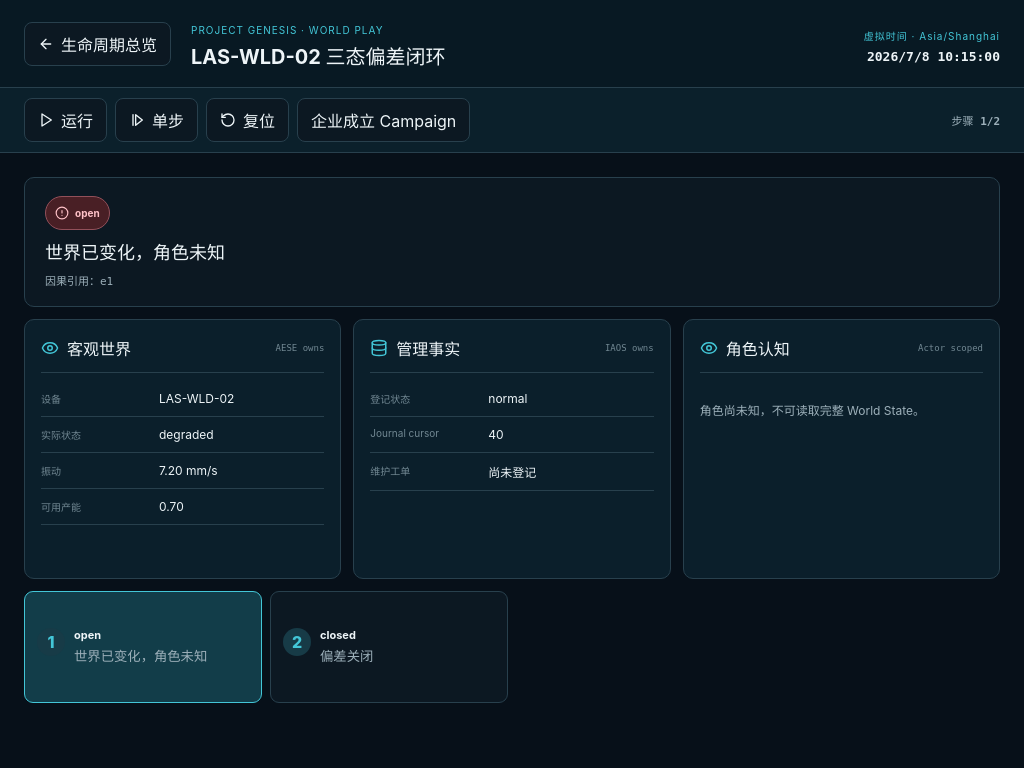
Scenario: WorldPlay › shows three states and advances accessibly
Expected: the heading "世界已变化，角色未知" is shown, x1=45 y1=242 x2=225 y2=263
Expected: the text "客观世界" is shown, x1=67 y1=339 x2=131 y2=359
Click the button "单步": (156, 120) x1=115 y1=98 x2=198 y2=142
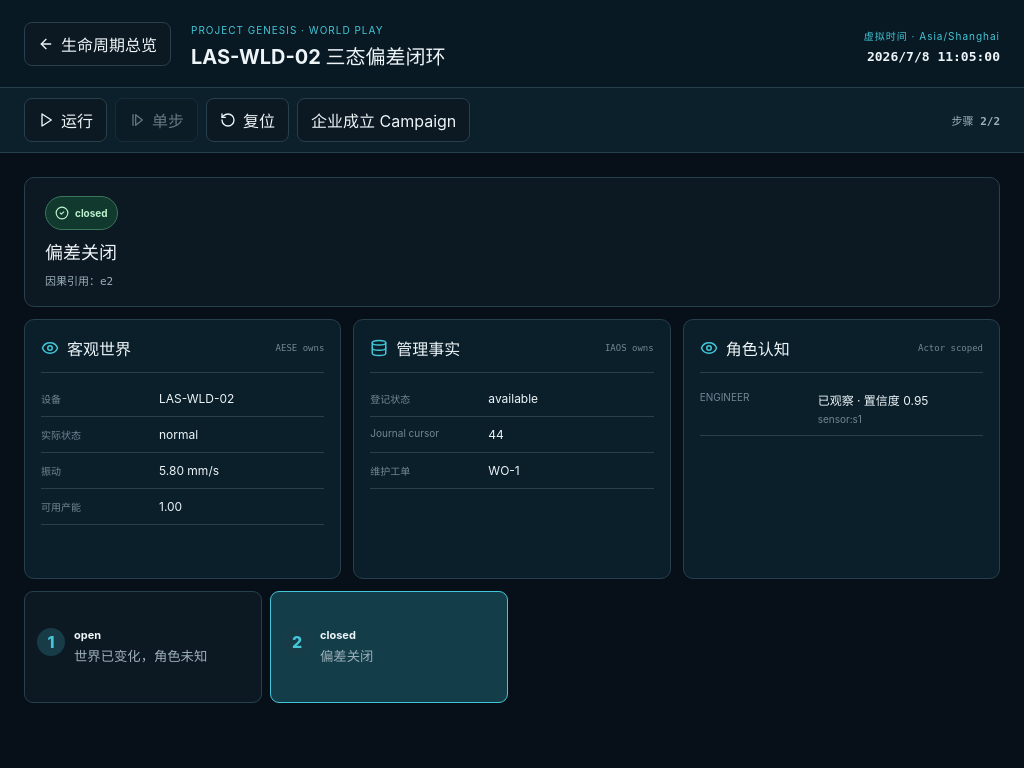
Expected: the heading "偏差关闭" is shown, x1=45 y1=242 x2=117 y2=263
Expected: the text "WO-1" is shown, x1=488 y1=463 x2=520 y2=478
